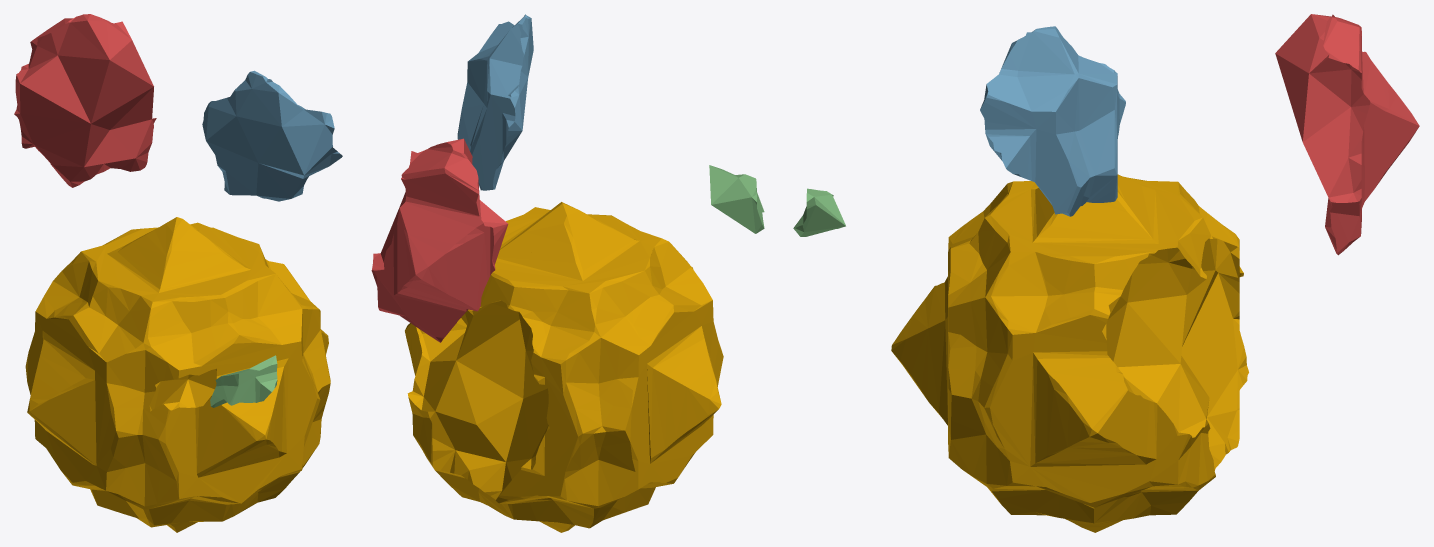
The model's file is fractured_79_4pcs_transformed.glb.
The picture shows the model from 3 angles, left to right: view 1: azimuth 30°, elevation 25°; view 2: azimuth 150°, elevation 25°; view 3: azimuth 270°, elevation 25°; orthographic projection. The views are drawn at different scales.
Visible parts, largest first — view 1: piece_0.obj, piece_1.obj, piece_2.obj, piece_3.obj; view 2: piece_0.obj, piece_1.obj, piece_2.obj, piece_3.obj; view 3: piece_0.obj, piece_2.obj, piece_1.obj, piece_3.obj.
Part boxes in pixels (<box>): piece_0.obj: <box>25,217,330,532</box>; piece_1.obj: <box>14,14,156,187</box>; piece_2.obj: <box>202,70,342,201</box>; piece_3.obj: <box>210,355,277,407</box>; piece_0.obj: <box>405,202,723,532</box>; piece_1.obj: <box>371,138,508,342</box>; piece_2.obj: <box>457,14,533,190</box>; piece_3.obj: <box>709,165,764,233</box>; piece_0.obj: <box>891,174,1248,532</box>; piece_2.obj: <box>980,26,1125,216</box>; piece_1.obj: <box>1275,14,1419,255</box>; piece_3.obj: <box>793,188,845,236</box>.
Size of the model in its own units: 0.9951 by 1.46 by 1.54.
